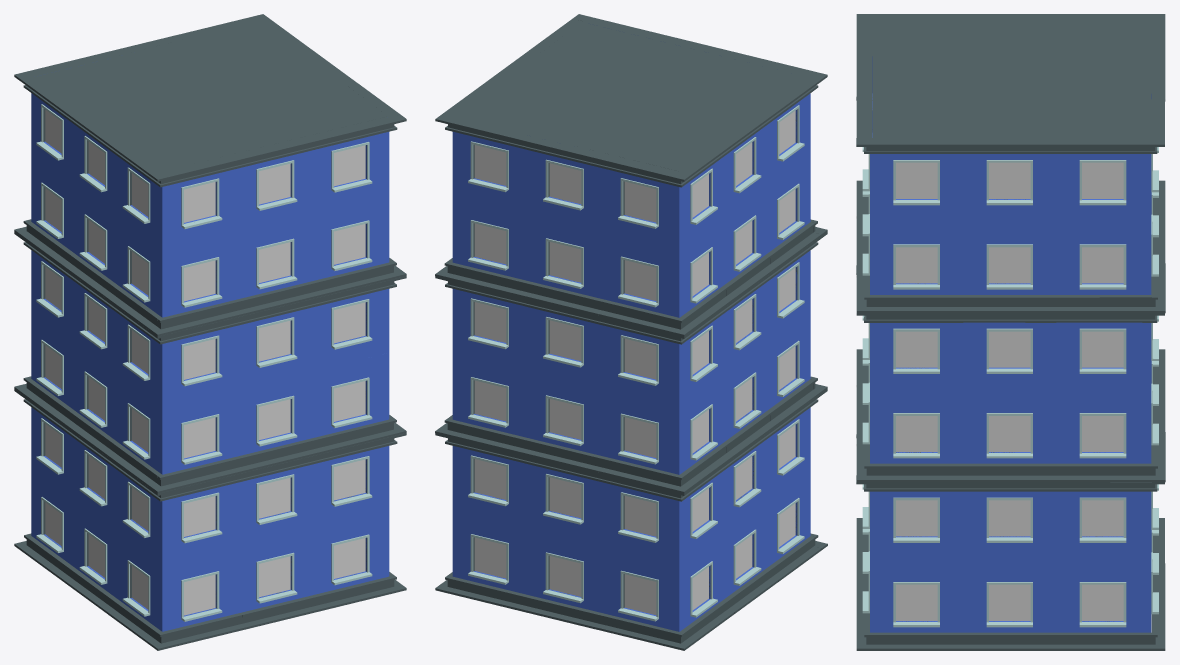
File: Building 2.fbx
3 renders of one model, left to right at view 1: azimuth 30°, elevation 25°; view 2: azimuth 150°, elevation 25°; view 3: azimuth 270°, elevation 25°, orthographic. The views are drawn at different scales.
Parts seen in each view (by area): view 1: Plane.004, Plane.009, Plane.137, Plane.071, Plane.052, Plane.139, Plane.068, Plane.042, Plane.138, Plane.058, Plane.183, Plane.168 (+31 smaller); view 2: Plane.004, Plane.095, Plane.126, Plane.054, Plane.069, Plane.149, Plane.002, Plane.122, Plane.066, Plane.022, Plane.182, Plane.181 (+33 smaller); view 3: Plane.004, Plane.003, Plane.044, Plane.075, Plane.131, Plane.133, Plane.005, Plane.076, Plane.132, Plane.077, Plane.021, Plane.172 (+35 smaller).
Part boxes in pixels (box(x1,y1,x2,y2)): Plane.004: box(35, 22, 385, 170); Plane.009: box(151, 547, 245, 650); Plane.137: box(151, 232, 245, 336); Plane.071: box(151, 390, 245, 493); Plane.052: box(312, 510, 406, 610); Plane.139: box(312, 196, 406, 296); Plane.068: box(312, 353, 406, 453); Plane.042: box(237, 528, 320, 629); Plane.138: box(237, 214, 320, 314); Plane.058: box(237, 371, 320, 472); Plane.183: box(150, 153, 243, 250); Plane.168: box(312, 114, 406, 214); Plane.004: box(456, 22, 807, 171); Plane.095: box(598, 389, 691, 493); Plane.126: box(598, 232, 691, 336); Plane.054: box(598, 546, 691, 650); Plane.069: box(435, 353, 528, 454); Plane.149: box(435, 195, 528, 297); Plane.002: box(435, 510, 528, 611); Plane.122: box(523, 214, 603, 315); Plane.066: box(523, 371, 603, 472); Plane.022: box(523, 528, 603, 629); Plane.182: box(596, 153, 690, 250); Plane.181: box(435, 113, 528, 213); Plane.004: box(872, 20, 1149, 137); Plane.003: box(870, 560, 965, 650); Plane.044: box(963, 560, 1058, 650); Plane.075: box(870, 392, 965, 482); Plane.131: box(870, 223, 965, 313); Plane.133: box(1056, 223, 1152, 313); Plane.005: box(1056, 560, 1151, 650); Plane.076: box(963, 392, 1058, 482); Plane.132: box(963, 223, 1058, 313); Plane.077: box(1056, 392, 1152, 482); Plane.021: box(870, 138, 963, 223); Plane.172: box(963, 138, 1056, 223).
Bounding box in the file's own units: 664 × 1200 × 664.
